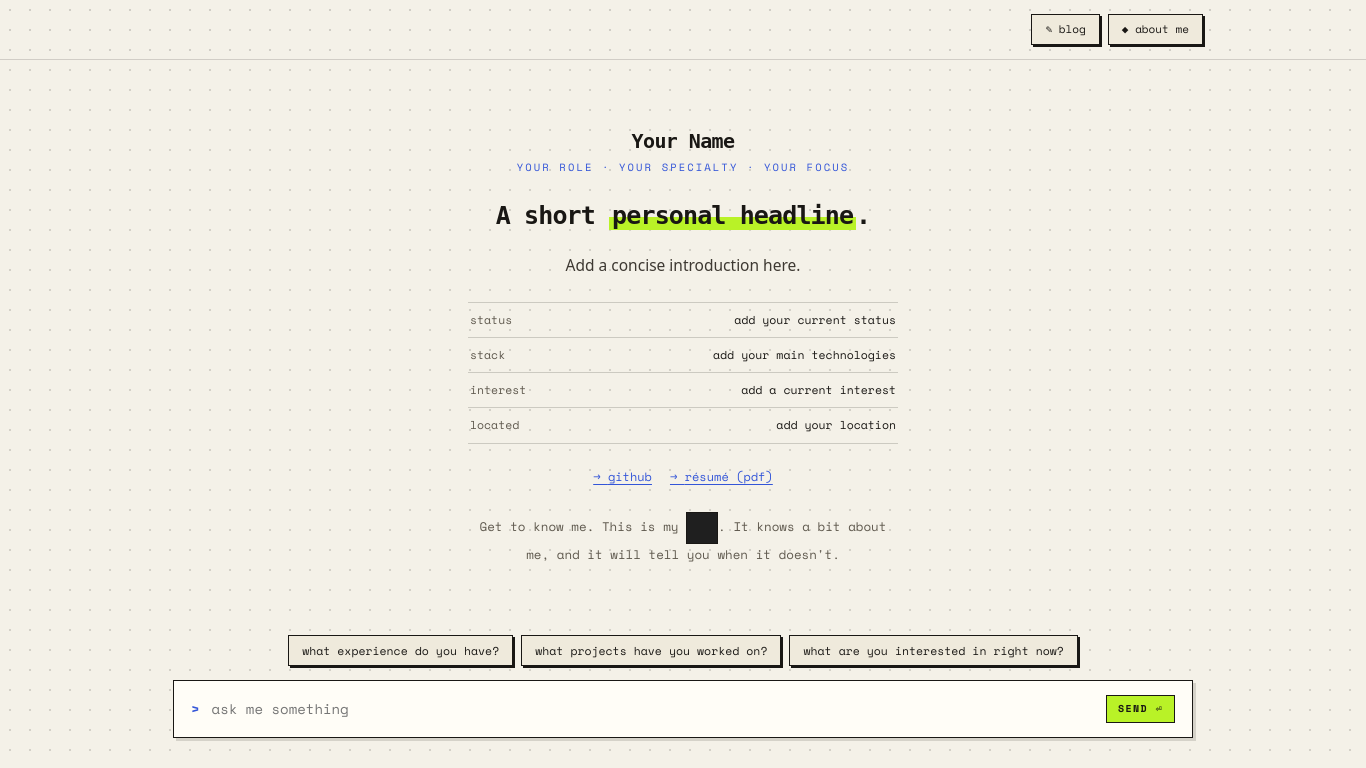
Test: App › lets the visitor type a question and send it as before
Type "a typed one" into the field at (653, 709), box [212,700,1094,718]
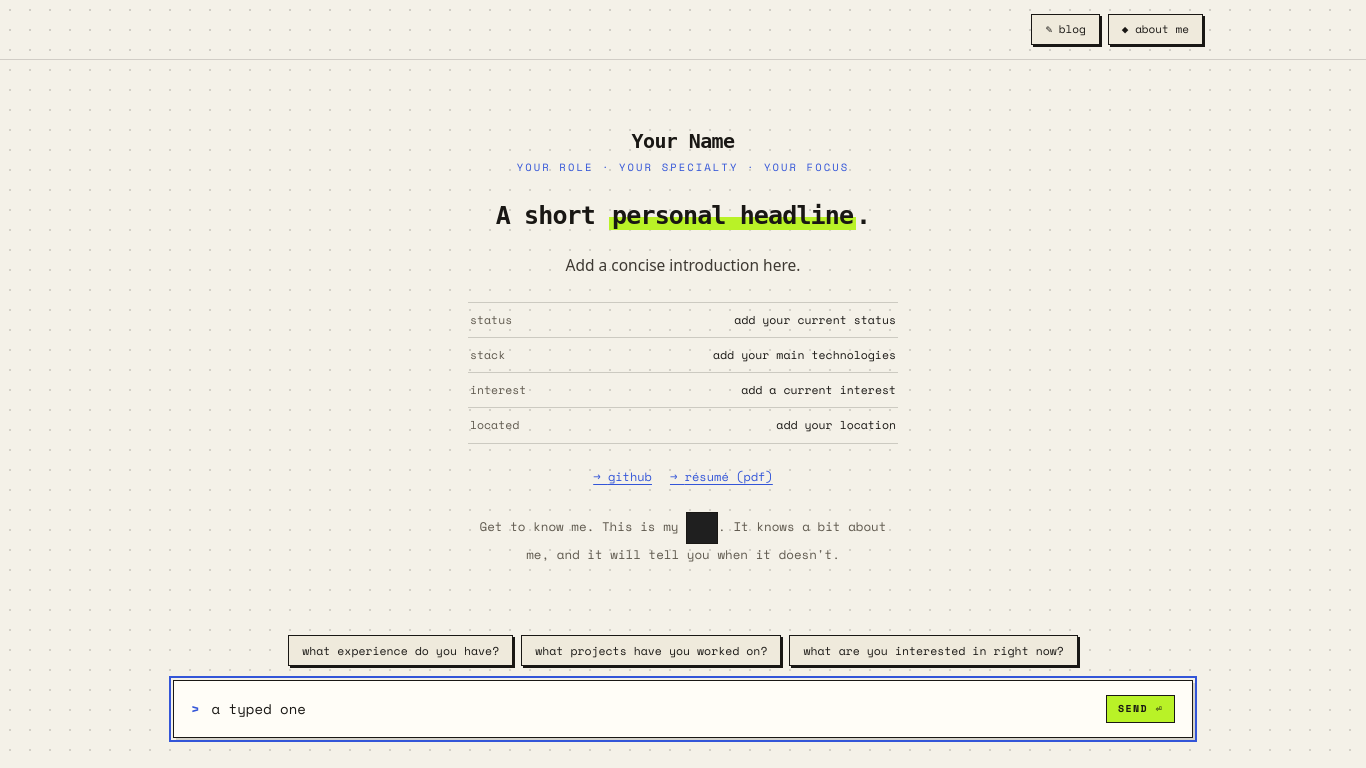
Click the button "SEND ⏎" at (1140, 709), box [1106,695,1175,723]
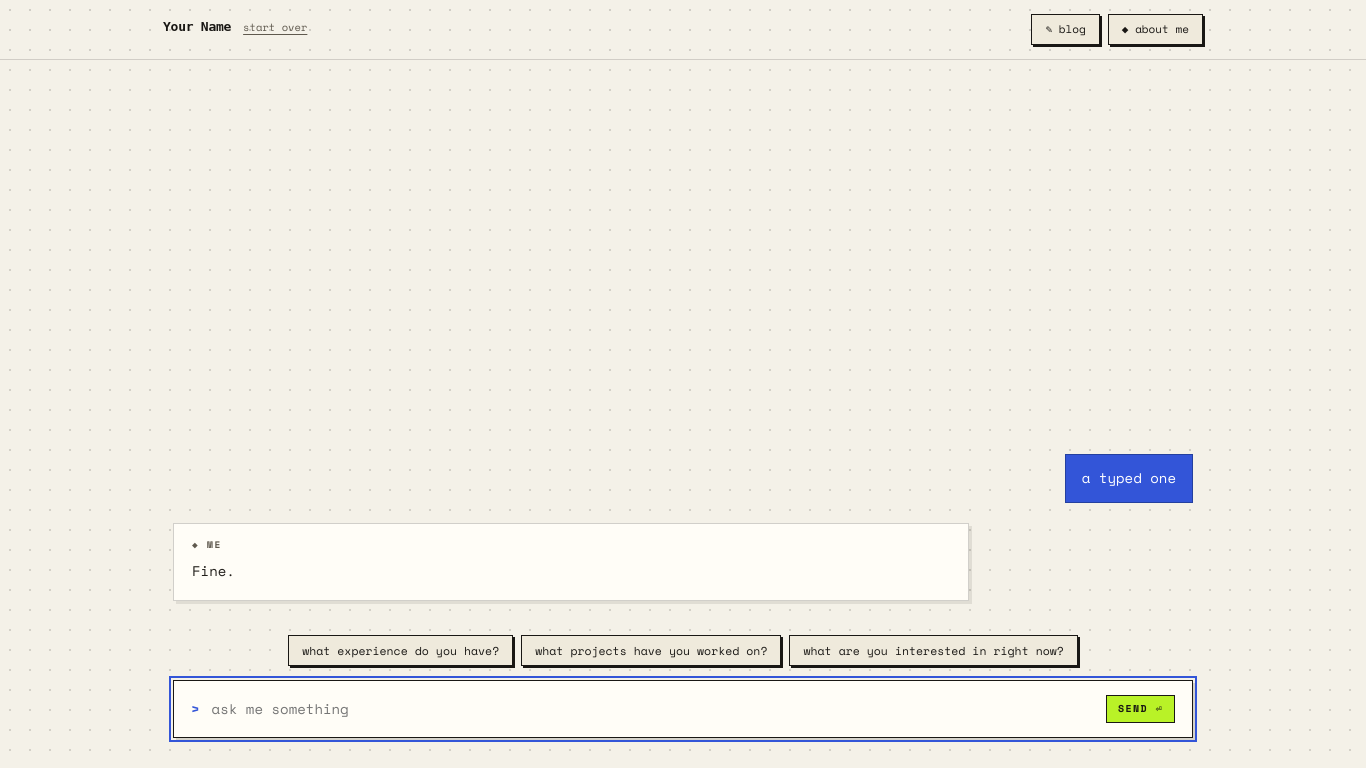
Now the text "Fine." is shown, box [192,560,235,581]
